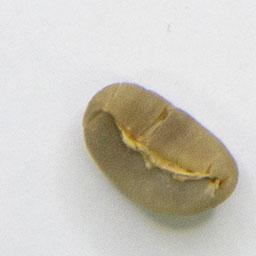premium: (78, 77, 244, 221)
